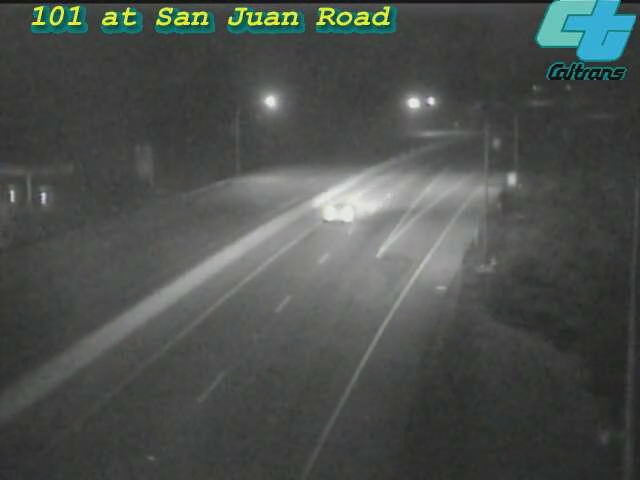vehicle: (305, 170, 385, 250)
